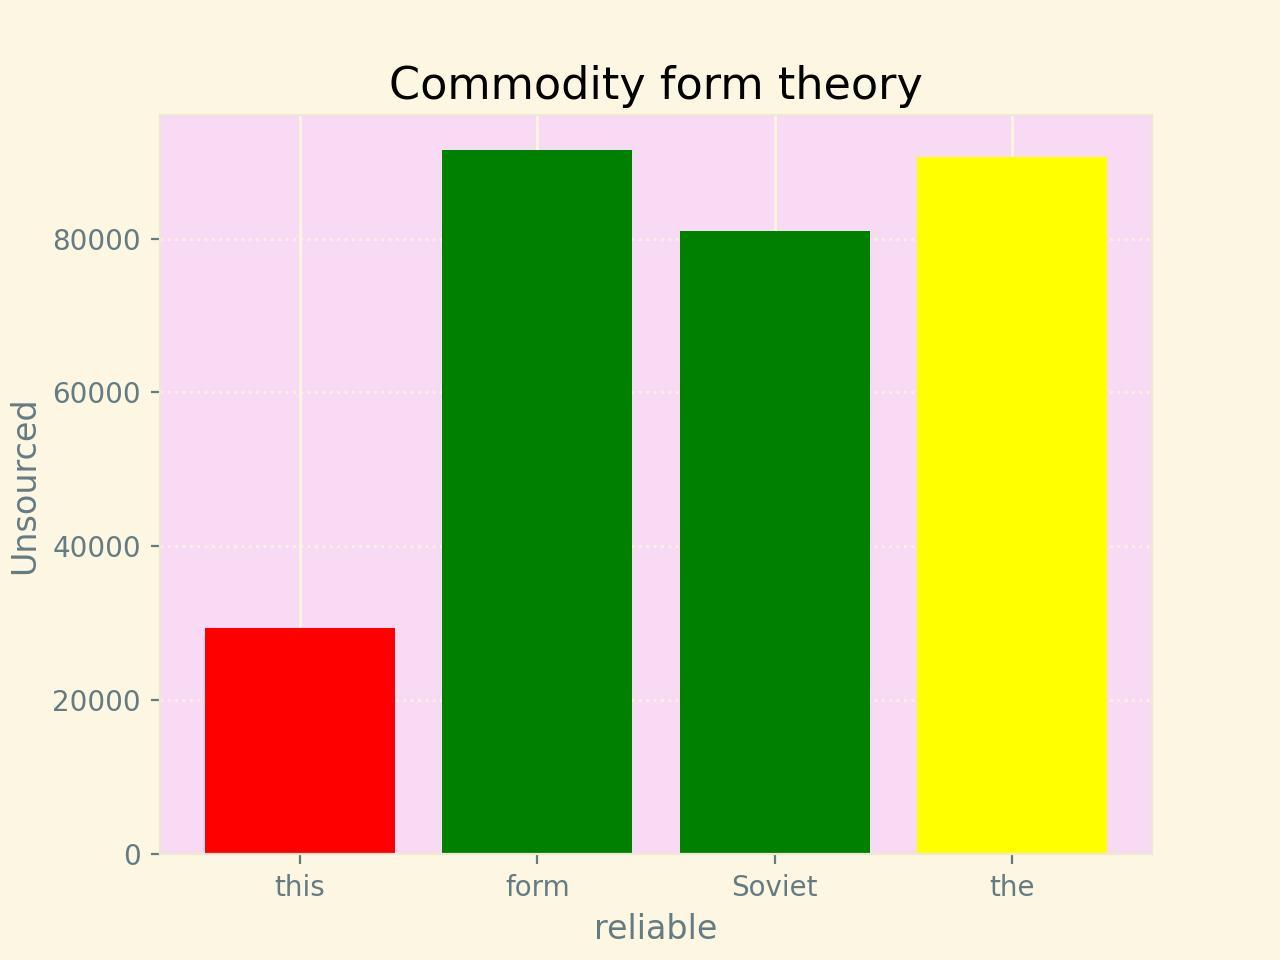axis: (8, 228, 141, 871)
rectangle: (442, 150, 633, 854), (917, 157, 1107, 854), (679, 231, 870, 854), (205, 627, 395, 854)
